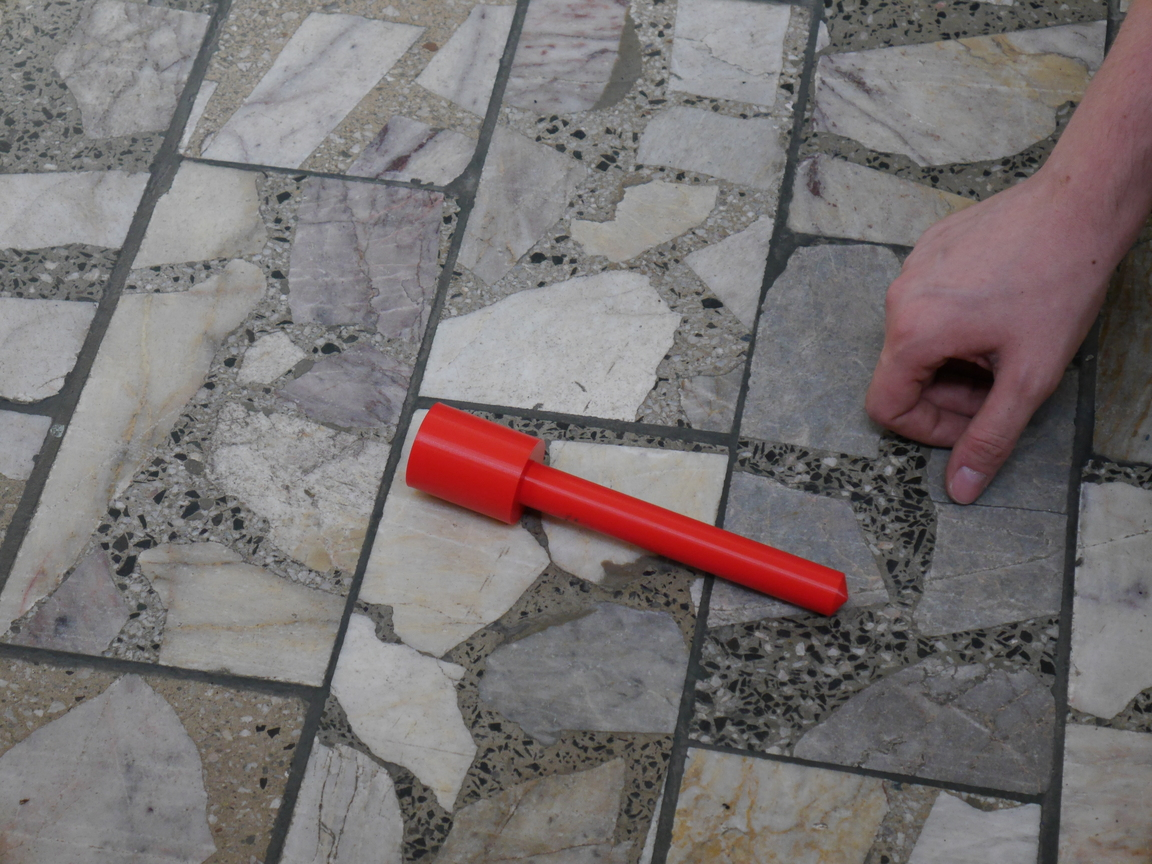cargo_g: (407, 401, 848, 614)
